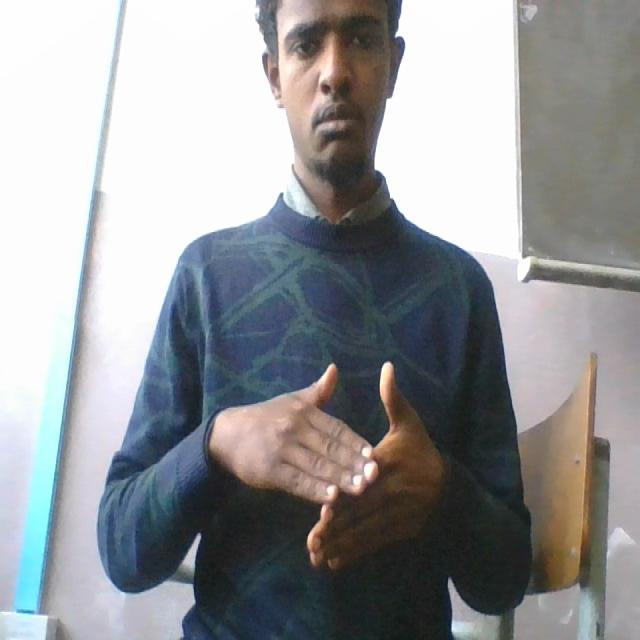tadya: (216, 358, 444, 573)
